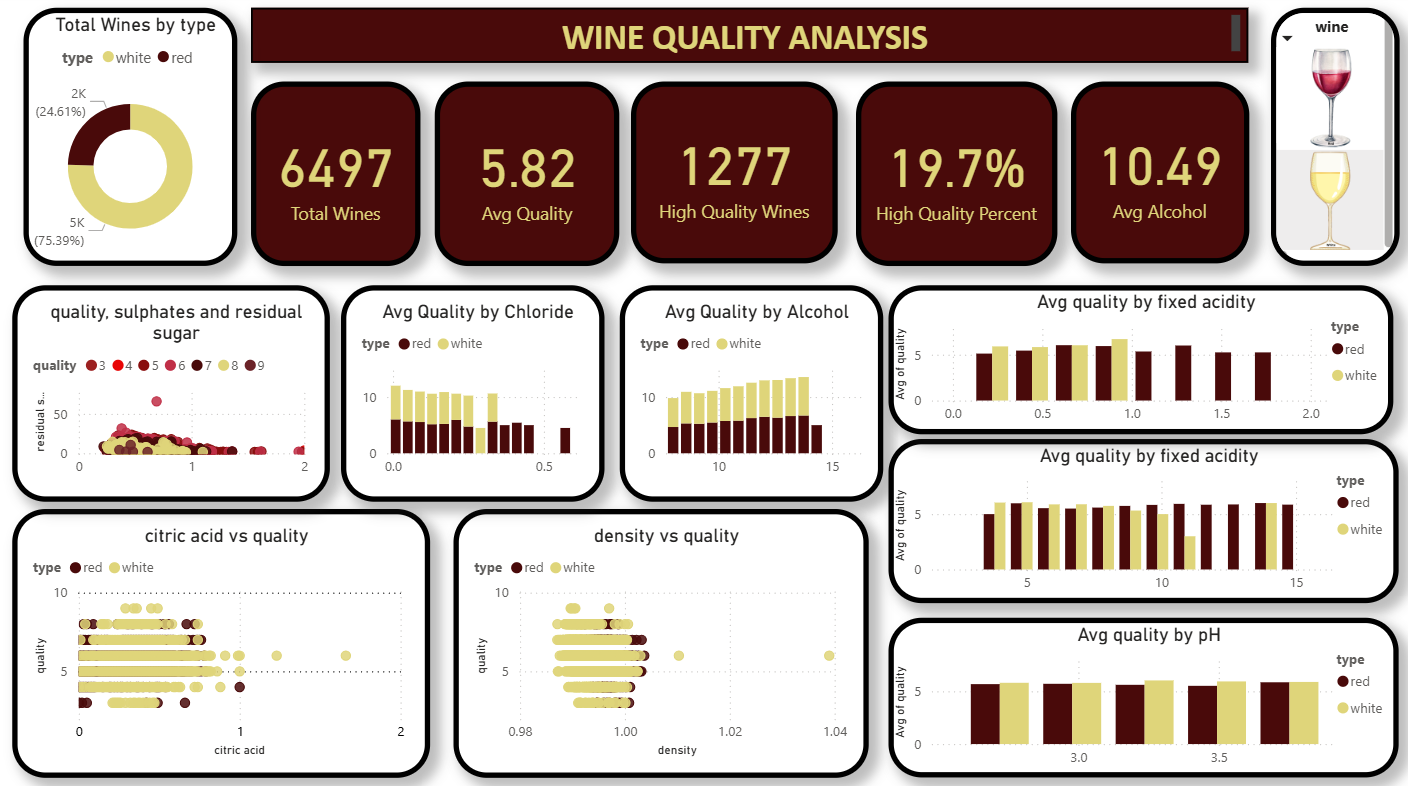

What the dashboard file says about the page in this screenshot:
{"tool":"powerbi","page":{"name":"Page 1","canvas":[1280,720],"ordinal":0},"visuals":[{"type":"card","fields":{"Values":["WineData.Total Wines"]},"box":[230.1,78.4,153,166.7],"z":0},{"type":"card","fields":{"Values":["WineData.AvgQuality"]},"box":[395.6,78.4,166.7,166.7],"z":1000},{"type":"card","fields":{"Values":["WineData.High Quality Wines"]},"box":[572.2,78.4,186.6,164.2],"z":2000},{"type":"card","fields":{"Values":["WineData.High Quality Percent"]},"box":[775,78.4,181.6,166.7],"z":3000},{"type":"card","fields":{"Values":["WineData.AvgAlcohol"]},"box":[969,78.4,160.5,164.2],"z":4000},{"type":"textbox","box":[230.1,12.4,899.4,49.8],"z":5000},{"type":"donutChart","fields":{"Category":["WineData.type"],"Y":["WineData.Total Wines"]},"box":[24.9,12.4,192.8,232.6],"z":6000},{"type":"columnChart","title":"Avg Quality by Alcohol","fields":{"Category":["WineData.alcohol (bins)"],"Series":["WineData.type"],"Y":["Avg(WineData.quality)"]},"box":[562.3,262.5,237.6,195.3],"z":7000},{"type":"scatterChart","title":"citric acid vs quality","fields":{"X":["WineData.citric acid"],"Y":["WineData.quality"],"Series":["WineData.type"]},"box":[14.9,464,376.9,242.6],"z":8000},{"type":"scatterChart","title":"density vs quality","fields":{"Y":["WineData.quality"],"X":["WineData.density"],"Series":["WineData.type"]},"box":[413,464,374.4,242.6],"z":9000},{"type":"clusteredColumnChart","title":"Avg quality by fixed acidity","fields":{"Category":["WineData.fixed acidity (bins)"],"Y":["Avg(WineData.quality)"],"Series":["WineData.type"]},"box":[804.8,401.8,460.3,148],"z":10000},{"type":"scatterChart","fields":{"Y":["WineData.residual sugar"],"Series":["WineData.quality"],"X":["WineData.sulphates"]},"box":[14.9,262.5,286.1,195.3],"z":11000},{"type":"pivotTable","fields":{"Columns":["images.type"],"Rows":["images.image"]},"box":[1149.4,12.4,115.7,232.6],"z":12000},{"type":"columnChart","title":"Avg Quality by Chloride","fields":{"Category":["WineData.chlorides (bins)"],"Series":["WineData.type"],"Y":["Avg(WineData.quality)"]},"box":[311,262.5,237.6,195.3],"z":13000},{"type":"clusteredColumnChart","title":"Avg quality by pH","fields":{"Category":["WineData.pH (bins)"],"Series":["WineData.type"],"Y":["Avg(WineData.quality)"]},"box":[804.8,562.3,460.3,144.3],"z":14000},{"type":"clusteredColumnChart","title":"Avg quality by fixed acidity","fields":{"Category":["WineData.sulphates (bins)"],"Y":["Avg(WineData.quality)"],"Series":["WineData.type"]},"box":[804.8,262.5,455.3,134.3],"z":15000}]}

Visuals, with their boxes in screenshot pixels (x1, y1, x2, y2), scaled from the page's 1280x720 canvas onto the 1408x786 screenshot:
card - WineData.Total Wines: left=253, top=86, right=421, bottom=268
card - WineData.AvgQuality: left=435, top=86, right=619, bottom=268
card - WineData.High Quality Wines: left=629, top=86, right=835, bottom=265
card - WineData.High Quality Percent: left=853, top=86, right=1052, bottom=268
card - WineData.AvgAlcohol: left=1066, top=86, right=1242, bottom=265
textbox: left=253, top=14, right=1242, bottom=68
donutChart - WineData.type x WineData.Total Wines: left=27, top=14, right=239, bottom=267
"Avg Quality by Alcohol" columnChart: left=619, top=287, right=880, bottom=500
"citric acid vs quality" scatterChart: left=16, top=507, right=431, bottom=771
"density vs quality" scatterChart: left=454, top=507, right=866, bottom=771
"Avg quality by fixed acidity" clusteredColumnChart: left=885, top=439, right=1392, bottom=600
scatterChart - WineData.residual sugar x WineData.quality: left=16, top=287, right=331, bottom=500
pivotTable - images.type x images.image: left=1264, top=14, right=1392, bottom=267
"Avg Quality by Chloride" columnChart: left=342, top=287, right=603, bottom=500
"Avg quality by pH" clusteredColumnChart: left=885, top=614, right=1392, bottom=771
"Avg quality by fixed acidity" clusteredColumnChart: left=885, top=287, right=1386, bottom=433
